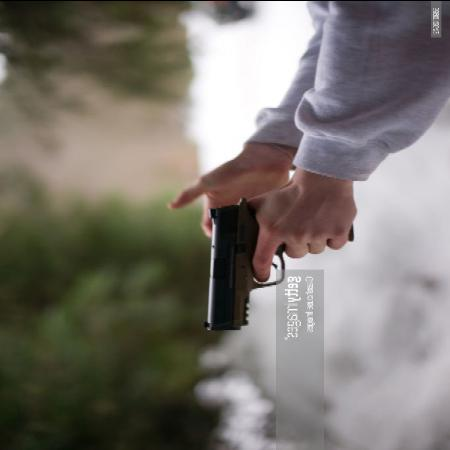Pistol: (203, 198, 352, 334)
